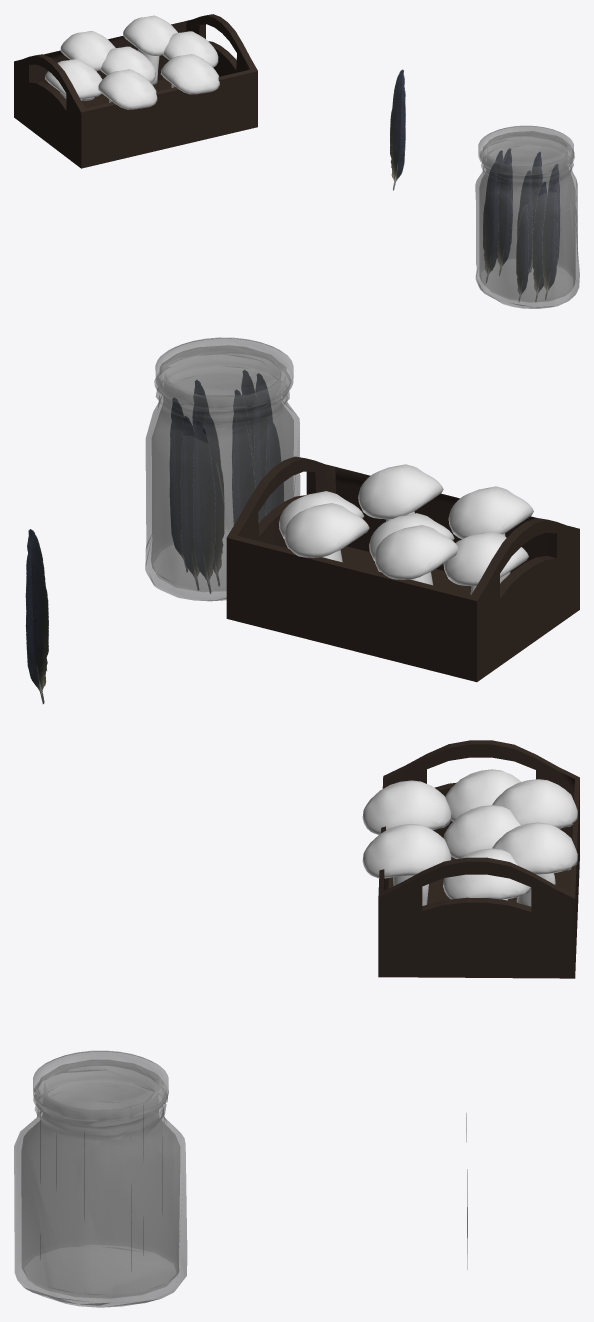
File: Contenedores.fbx
The picture shows the model from 3 angles, top to bottom: view 1: azimuth 30°, elevation 25°; view 2: azimuth 150°, elevation 25°; view 3: azimuth 270°, elevation 25°; orthographic projection. The views are drawn at different scales.
Parts seen in each view (by area): view 1: Lion_Skele.004, FrascoPlumas, Pluma; view 2: Lion_Skele.004, FrascoPlumas, Pluma; view 3: Lion_Skele.004, FrascoPlumas.
Part boxes in pixels (<box>): Lion_Skele.004: <box>14,14,257,168</box>; FrascoPlumas: <box>475,125,579,308</box>; Pluma: <box>390,69,405,190</box>; Lion_Skele.004: <box>226,456,579,682</box>; FrascoPlumas: <box>145,337,300,601</box>; Pluma: <box>25,529,48,704</box>; Lion_Skele.004: <box>362,740,579,978</box>; FrascoPlumas: <box>14,1050,187,1307</box>.
Size of the model in its own units: 104 by 54.5 by 92.15.
4 materials, 1 textured.
